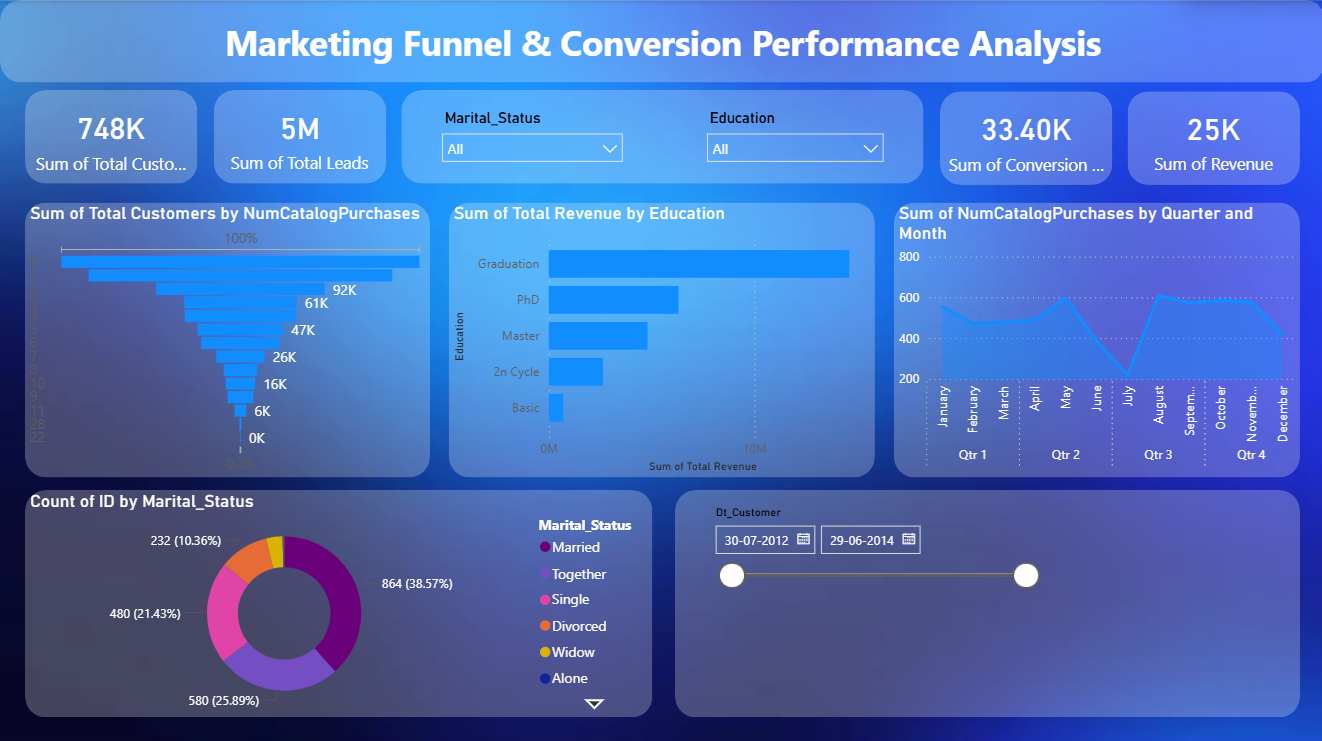

This screenshot's page, from the dashboard's own definition file:
{"tool":"powerbi","page":{"name":"Page 1","canvas":[1280,720],"ordinal":0},"visuals":[{"type":"shape","box":[0,0,1280,79.6],"z":0},{"type":"shape","box":[387.4,86.9,504.3,90.5],"z":1000},{"type":"shape","box":[24.1,86.9,166.5,90.5],"z":2000},{"type":"shape","box":[205.8,86.9,166.5,90.5],"z":3000},{"type":"shape","box":[906.9,88.2,166.5,90.5],"z":4000},{"type":"shape","box":[1088.6,88.2,166.5,90.5],"z":5000},{"type":"shape","box":[24.1,195.4,390.9,265.4],"z":6000},{"type":"shape","box":[433.1,195.4,411.4,265.4],"z":7000},{"type":"shape","box":[862.6,195.4,392.1,265.4],"z":8000},{"type":"shape","box":[24.1,472.9,605.6,219.6],"z":9000},{"type":"shape","box":[651.5,472.9,603.2,219.6],"z":10000},{"type":"card","fields":{"Values":["Sum(marketing_campaign.Total Customers)"]},"box":[24.1,86.9,166.5,92.9],"z":11000},{"type":"card","fields":{"Values":["Sum(marketing_campaign.Z_Revenue)"]},"box":[1088.2,88.1,166.5,91.7],"z":12000},{"type":"funnel","fields":{"Category":["marketing_campaign.NumCatalogPurchases"],"Y":["Sum(marketing_campaign.Total Customers)"]},"box":[24.1,195.4,390.9,265.4],"z":13000},{"type":"donutChart","fields":{"Category":["marketing_campaign.Marital_Status"],"Y":["CountNonNull(marketing_campaign.ID)"]},"box":[24.1,472.9,605.6,219.6],"z":14000},{"type":"clusteredBarChart","fields":{"Category":["marketing_campaign.Education"],"Y":["Sum(marketing_campaign.Total Revenue)"]},"box":[433.1,195.4,411.4,265.4],"z":15000},{"type":"areaChart","fields":{"Category":["marketing_campaign.Dt_Customer.Variation.Date Hierarchy.Quarter","marketing_campaign.Dt_Customer.Variation.Date Hierarchy.Month"],"Y":["Sum(marketing_campaign.NumCatalogPurchases)"]},"box":[862.6,195.4,392.1,265.4],"z":16000},{"type":"card","fields":{"Values":["Sum(marketing_campaign.Total Leads)"]},"box":[205.8,86.4,166,91.9],"z":17000},{"type":"card","fields":{"Values":["Sum(marketing_campaign.Conversion Rate)"]},"box":[907,87.8,167.4,91.9],"z":18000},{"type":"slicer","fields":{"Values":["marketing_campaign.Education"]},"box":[672.4,100.2,190.7,189.4],"z":19000},{"type":"slicer","fields":{"Values":["marketing_campaign.Marital_Status"]},"box":[415.8,100.2,194.9,189.4],"z":20000},{"type":"slicer","fields":{"Values":["marketing_campaign.Dt_Customer"]},"box":[677.9,483,333.4,100.2],"z":21000}]}

Visuals, with their boxes in screenshot pixels (x1, y1, x2, y2), scaled from the page's 1280x720 canvas onto the 1322x741 screenshot:
shape: locate(0, 0, 1321, 82)
shape: locate(400, 89, 921, 183)
shape: locate(25, 89, 197, 183)
shape: locate(213, 89, 385, 183)
shape: locate(937, 91, 1109, 184)
shape: locate(1124, 91, 1296, 184)
shape: locate(25, 201, 429, 474)
shape: locate(447, 201, 872, 474)
shape: locate(891, 201, 1296, 474)
shape: locate(25, 487, 650, 713)
shape: locate(673, 487, 1296, 713)
card - Sum(marketing_campaign.Total Customers): locate(25, 89, 197, 185)
card - Sum(marketing_campaign.Z_Revenue): locate(1124, 91, 1296, 185)
funnel - marketing_campaign.NumCatalogPurchases x Sum(marketing_campaign.Total Customers): locate(25, 201, 429, 474)
donutChart - marketing_campaign.Marital_Status x CountNonNull(marketing_campaign.ID): locate(25, 487, 650, 713)
clusteredBarChart - marketing_campaign.Education x Sum(marketing_campaign.Total Revenue): locate(447, 201, 872, 474)
areaChart - marketing_campaign.Dt_Customer.Variation.Date Hierarchy.Quarter x marketing_campaign.Dt_Customer.Variation.Date Hierarchy.Month: locate(891, 201, 1296, 474)
card - Sum(marketing_campaign.Total Leads): locate(213, 89, 384, 184)
card - Sum(marketing_campaign.Conversion Rate): locate(937, 90, 1110, 185)
slicer - marketing_campaign.Education: locate(694, 103, 891, 298)
slicer - marketing_campaign.Marital_Status: locate(429, 103, 631, 298)
slicer - marketing_campaign.Dt_Customer: locate(700, 497, 1044, 600)
